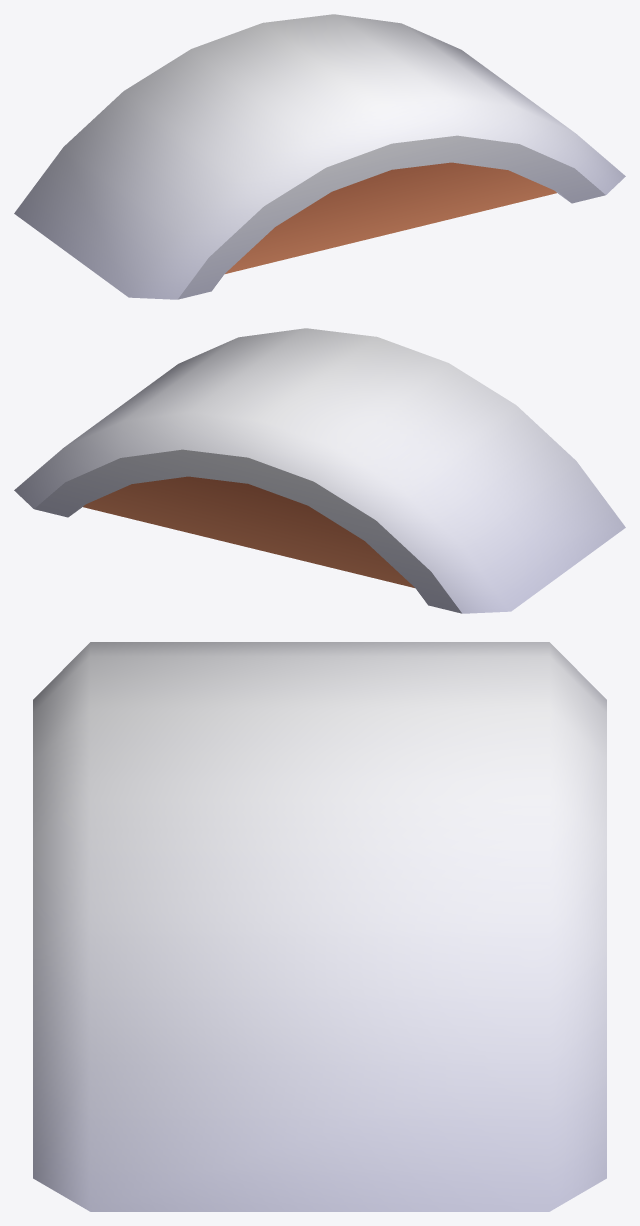
Rendered from block-snow-curve-low.glb.
3 renders of one model, top to bottom at view 1: azimuth 30°, elevation 25°; view 2: azimuth 150°, elevation 25°; view 3: azimuth 270°, elevation 25°, orthographic. The views are drawn at different scales.
Parts seen in each view (by area): view 1: block-snow-curve-low; view 2: block-snow-curve-low; view 3: block-snow-curve-low.
Part boxes in pixels (x1,y1,x2,y2): block-snow-curve-low: (14, 14, 625, 299); block-snow-curve-low: (14, 328, 625, 613); block-snow-curve-low: (33, 642, 606, 1211).
Size of the model in its own units: 2 by 0.5 by 1.
Materials: 1 (1 with a texture image).
